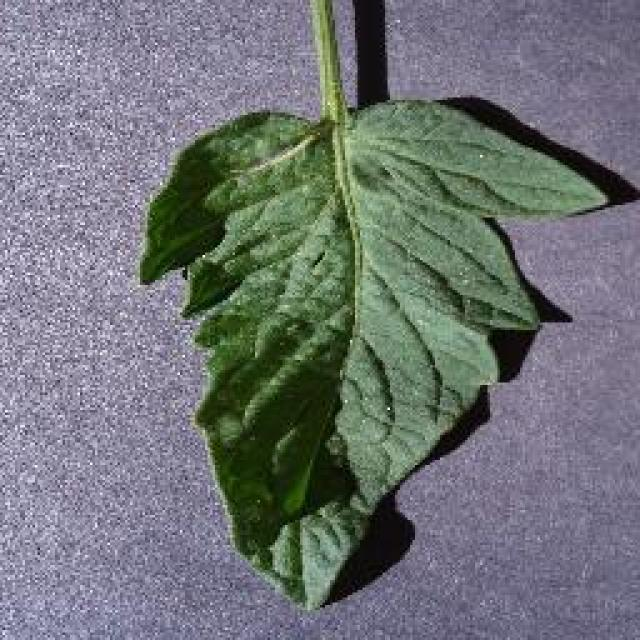Tomato___healthy: (132, 0, 613, 615)
